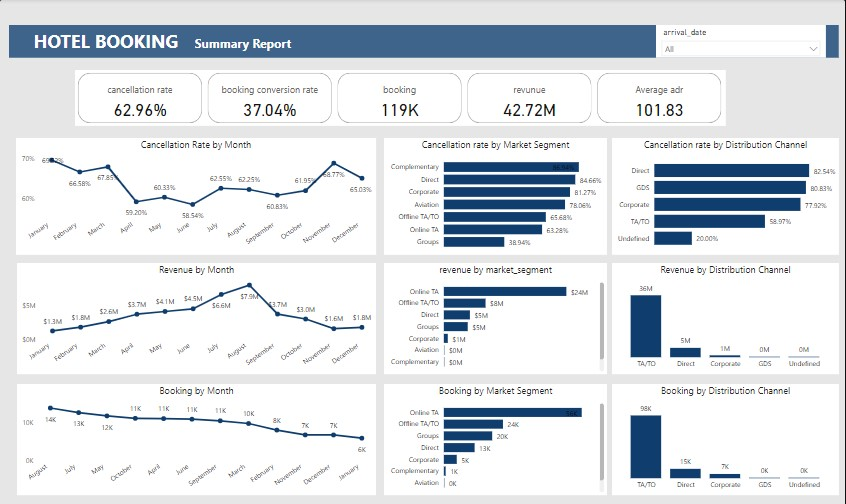

The dashboard page shown, as its layout file describes it:
{"tool":"powerbi","page":{"name":"Page 1","canvas":[1500,900],"ordinal":1},"visuals":[{"type":"cardVisual","fields":{"Data":["_measures.cancellation rate","_measures.conversion rate","_measures.total_booking","Avg(hotel_bookings.adr)","_measures.revenue"]},"box":[134.6,125.8,1153.3,99.2],"z":0},{"type":"clusteredColumnChart","title":"Revenue by Distribution Channel","fields":{"Category":["hotel_bookings.distribution_channel"],"Y":["Sum(hotel_bookings.revunue)"]},"box":[1086.3,467.5,402.2,196.7],"z":1000},{"type":"lineChart","title":"Booking by Month","fields":{"Y":["_measures.total_booking"],"Category":["hotel_bookings.arrival_date.Variation.Date Hierarchy.Year","hotel_bookings.arrival_date.Variation.Date Hierarchy.Quarter","hotel_bookings.arrival_date.Variation.Date Hierarchy.Month","hotel_bookings.arrival_date.Variation.Date Hierarchy.Day"]},"box":[32.2,681.9,636,196.7],"z":2000},{"type":"clusteredBarChart","title":"Booking by Market Segment","fields":{"Category":["hotel_bookings.market_segment"],"Y":["_measures.total_booking"]},"box":[682.1,681.9,395.1,196.7],"z":3000},{"type":"clusteredColumnChart","title":"Booking by Distribution Channel","fields":{"Category":["hotel_bookings.distribution_channel"],"Y":["_measures.total_booking"]},"box":[1086.3,681.9,402.2,196.7],"z":4000},{"type":"lineChart","title":"Revenue by Month","fields":{"Y":["_measures.revenue"],"Category":["hotel_bookings.arrival_date.Variation.Date Hierarchy.Year","hotel_bookings.arrival_date.Variation.Date Hierarchy.Quarter","hotel_bookings.arrival_date.Variation.Date Hierarchy.Month","hotel_bookings.arrival_date.Variation.Date Hierarchy.Day"]},"box":[32.2,467.5,636,196.7],"z":5000},{"type":"clusteredBarChart","fields":{"Category":["hotel_bookings.market_segment"],"Y":["_measures.revenue"]},"box":[682.1,467.5,395.1,196.7],"z":6000},{"type":"clusteredBarChart","title":"Cancellation rate by Market Segment","fields":{"Category":["hotel_bookings.market_segment"],"Y":["_measures.cancellation rate"]},"box":[682.1,246,395.1,207.3],"z":7000},{"type":"clusteredBarChart","title":"Cancellation rate by Distribution Channel","fields":{"Category":["hotel_bookings.distribution_channel"],"Y":["_measures.cancellation rate"]},"box":[1086.3,246,402.2,207.3],"z":8000},{"type":"lineChart","title":"Cancellation Rate by Month","fields":{"Y":["_measures.cancellation rate"],"Category":["hotel_bookings.arrival_date.Variation.Date Hierarchy.Year","hotel_bookings.arrival_date.Variation.Date Hierarchy.Quarter","hotel_bookings.arrival_date.Variation.Date Hierarchy.Month","hotel_bookings.arrival_date.Variation.Date Hierarchy.Day"]},"box":[30.4,246,637.8,207.3],"z":9000},{"type":"textbox","box":[17.7,46.1,1470.5,58.5],"z":10000},{"type":"slicer","fields":{"Values":["hotel_bookings.arrival_date"]},"box":[1164,46.1,301.2,58.5],"z":11000}]}

Visuals, with their boxes in screenshot pixels (x1, y1, x2, y2), scaled from the page's 1500x900 canvas onto the 846x504 screenshot:
cardVisual - _measures.cancellation rate x _measures.conversion rate: bbox(76, 70, 726, 126)
"Revenue by Distribution Channel" clusteredColumnChart: bbox(613, 262, 840, 372)
"Booking by Month" lineChart: bbox(18, 382, 377, 492)
"Booking by Market Segment" clusteredBarChart: bbox(385, 382, 608, 492)
"Booking by Distribution Channel" clusteredColumnChart: bbox(613, 382, 840, 492)
"Revenue by Month" lineChart: bbox(18, 262, 377, 372)
clusteredBarChart - hotel_bookings.market_segment x _measures.revenue: bbox(385, 262, 608, 372)
"Cancellation rate by Market Segment" clusteredBarChart: bbox(385, 138, 608, 254)
"Cancellation rate by Distribution Channel" clusteredBarChart: bbox(613, 138, 840, 254)
"Cancellation Rate by Month" lineChart: bbox(17, 138, 377, 254)
textbox: bbox(10, 26, 839, 59)
slicer - hotel_bookings.arrival_date: bbox(656, 26, 826, 59)
